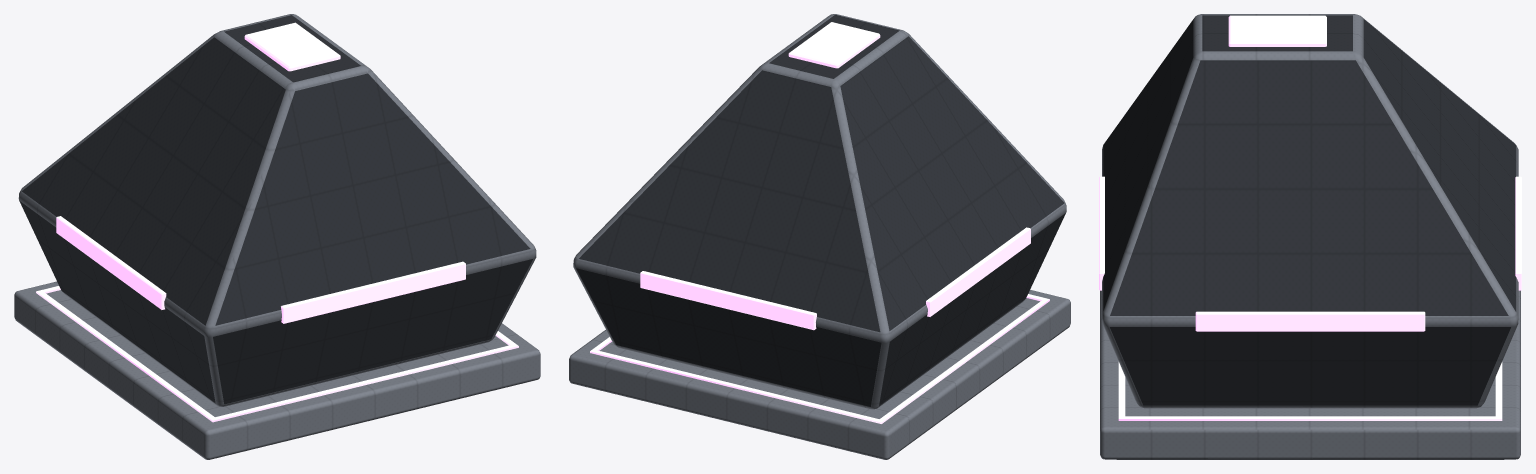
Rendered from R4X_Stealth.glb.
3 views of the same model, side by side, from view 1: azimuth 30°, elevation 25°; view 2: azimuth 150°, elevation 25°; view 3: azimuth 270°, elevation 25° (orthographic). The views are drawn at different scales.
Parts seen in each view (by area): view 1: R4X_Stealth_Body; view 2: R4X_Stealth_Body; view 3: R4X_Stealth_Body.
Part boxes in pixels (x1=…): R4X_Stealth_Body: x1=14, y1=14, x2=540, y2=459; R4X_Stealth_Body: x1=569, y1=14, x2=1070, y2=459; R4X_Stealth_Body: x1=1099, y1=14, x2=1521, y2=459.
Bounding box in the file's own units: 0.516 × 0.466 × 0.516.
4 materials, 3 textured.
